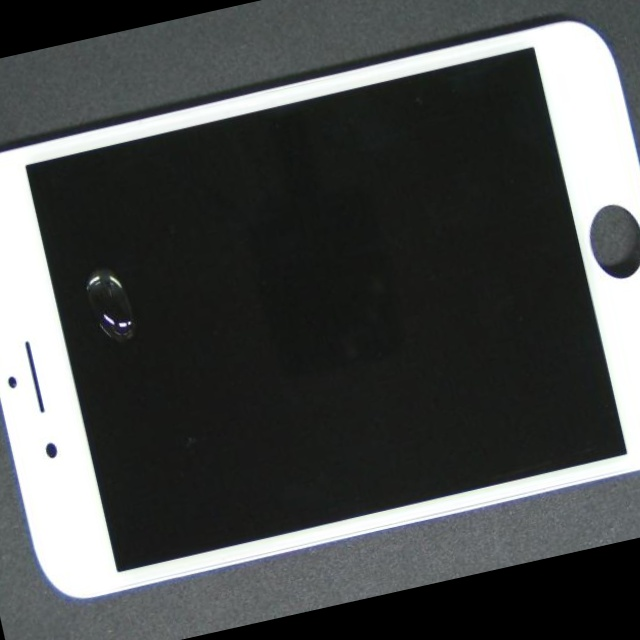oil: (0, 121, 197, 441)
